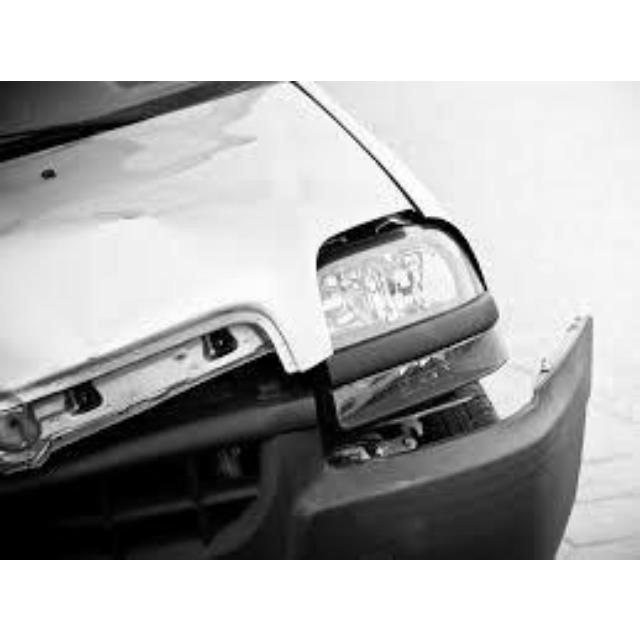front-bumper-dent: (312, 232, 509, 461)
